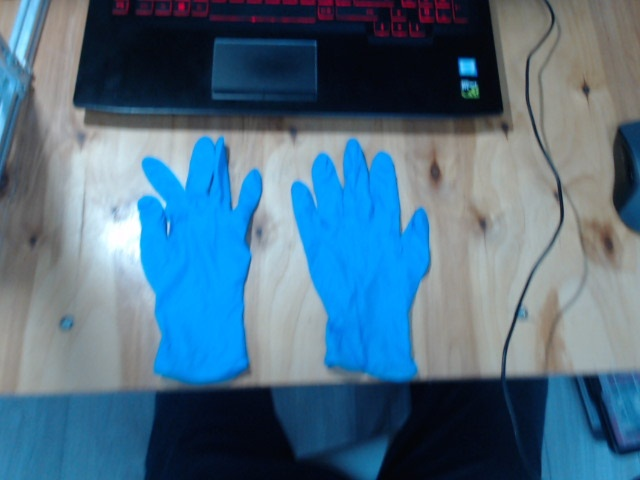medical_glove: (291, 140, 431, 380), (138, 137, 263, 383)
